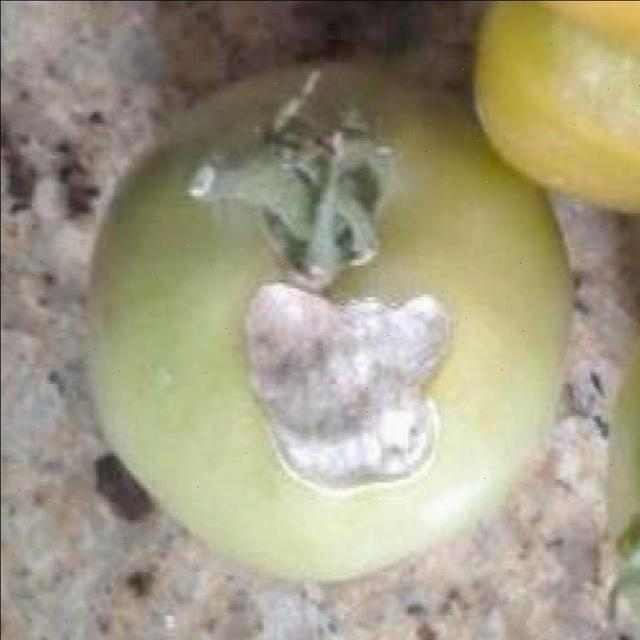Sunscald Fruit: (127, 162, 309, 336)
